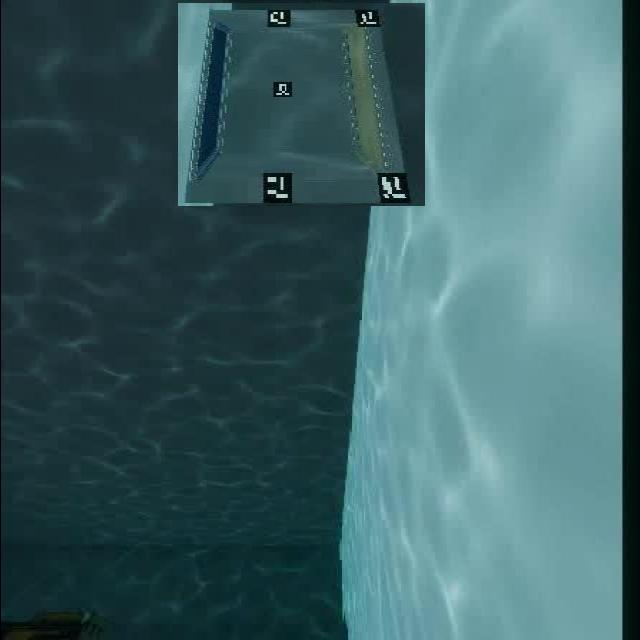Docking Station: (176, 2, 424, 206)
